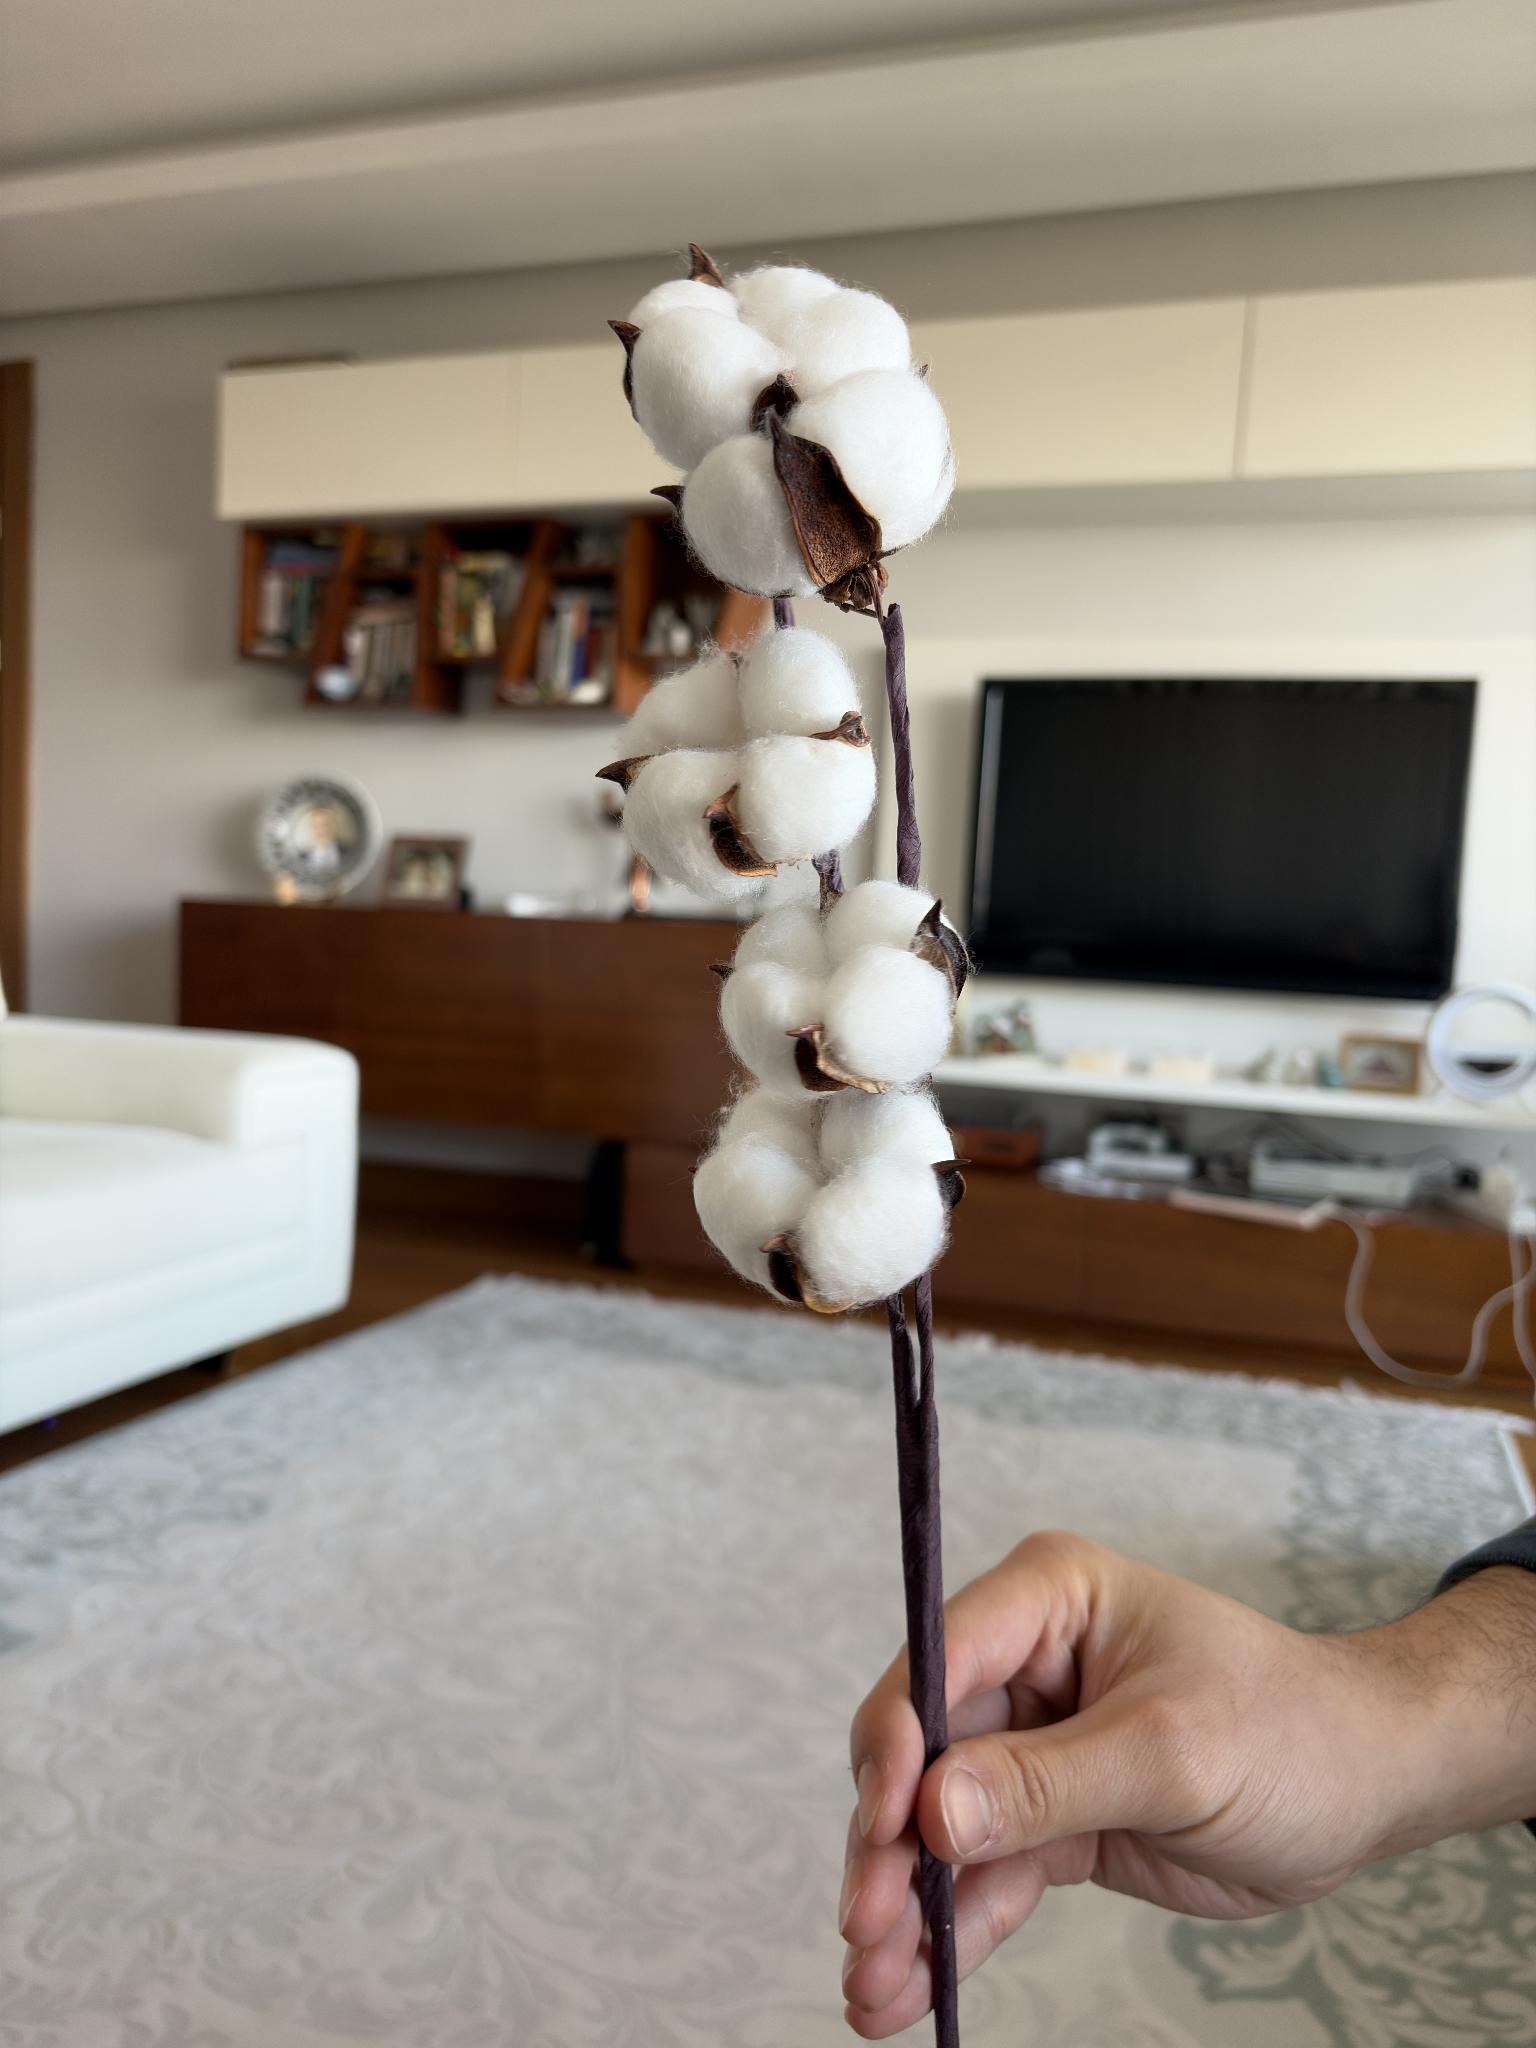cotton_boll: (783, 374, 957, 553), (629, 310, 787, 472), (791, 1158, 947, 1306), (681, 434, 818, 598), (624, 750, 752, 900), (694, 1137, 818, 1288), (821, 945, 952, 1085), (734, 735, 876, 861), (781, 287, 910, 398), (721, 961, 823, 1100), (739, 627, 858, 739), (629, 650, 744, 755), (818, 1090, 954, 1172), (715, 1087, 821, 1176), (824, 880, 934, 964), (728, 266, 841, 337), (734, 903, 828, 976), (628, 276, 737, 329), (883, 1153, 883, 1153)
cotton_boll-cluster: (611, 237, 958, 608), (611, 627, 881, 903), (686, 1085, 973, 1327), (692, 880, 975, 1101)
